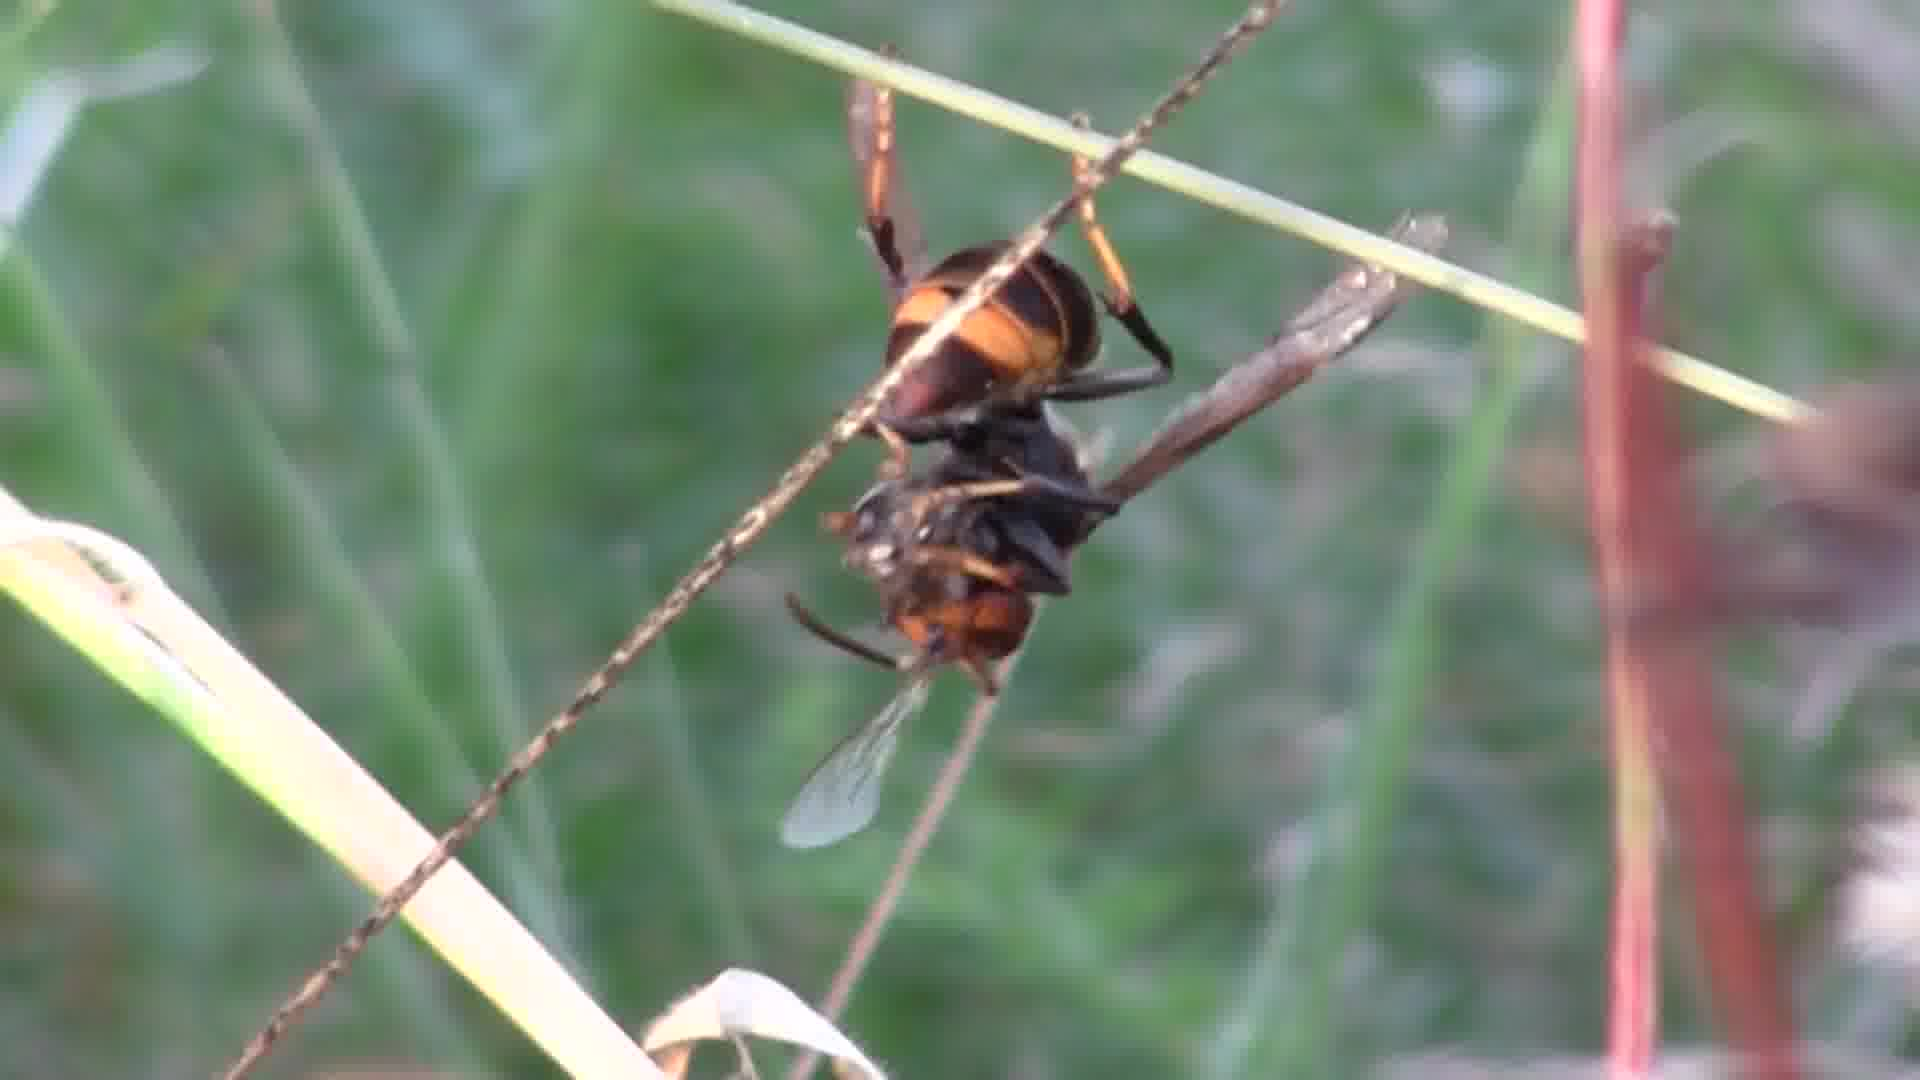hornet: (767, 113, 1218, 724)
